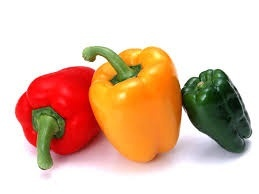fruit: (89, 46, 183, 164), (15, 66, 101, 155), (181, 68, 253, 154)
pedicle: (31, 105, 64, 139), (109, 64, 141, 85), (194, 80, 212, 91)
